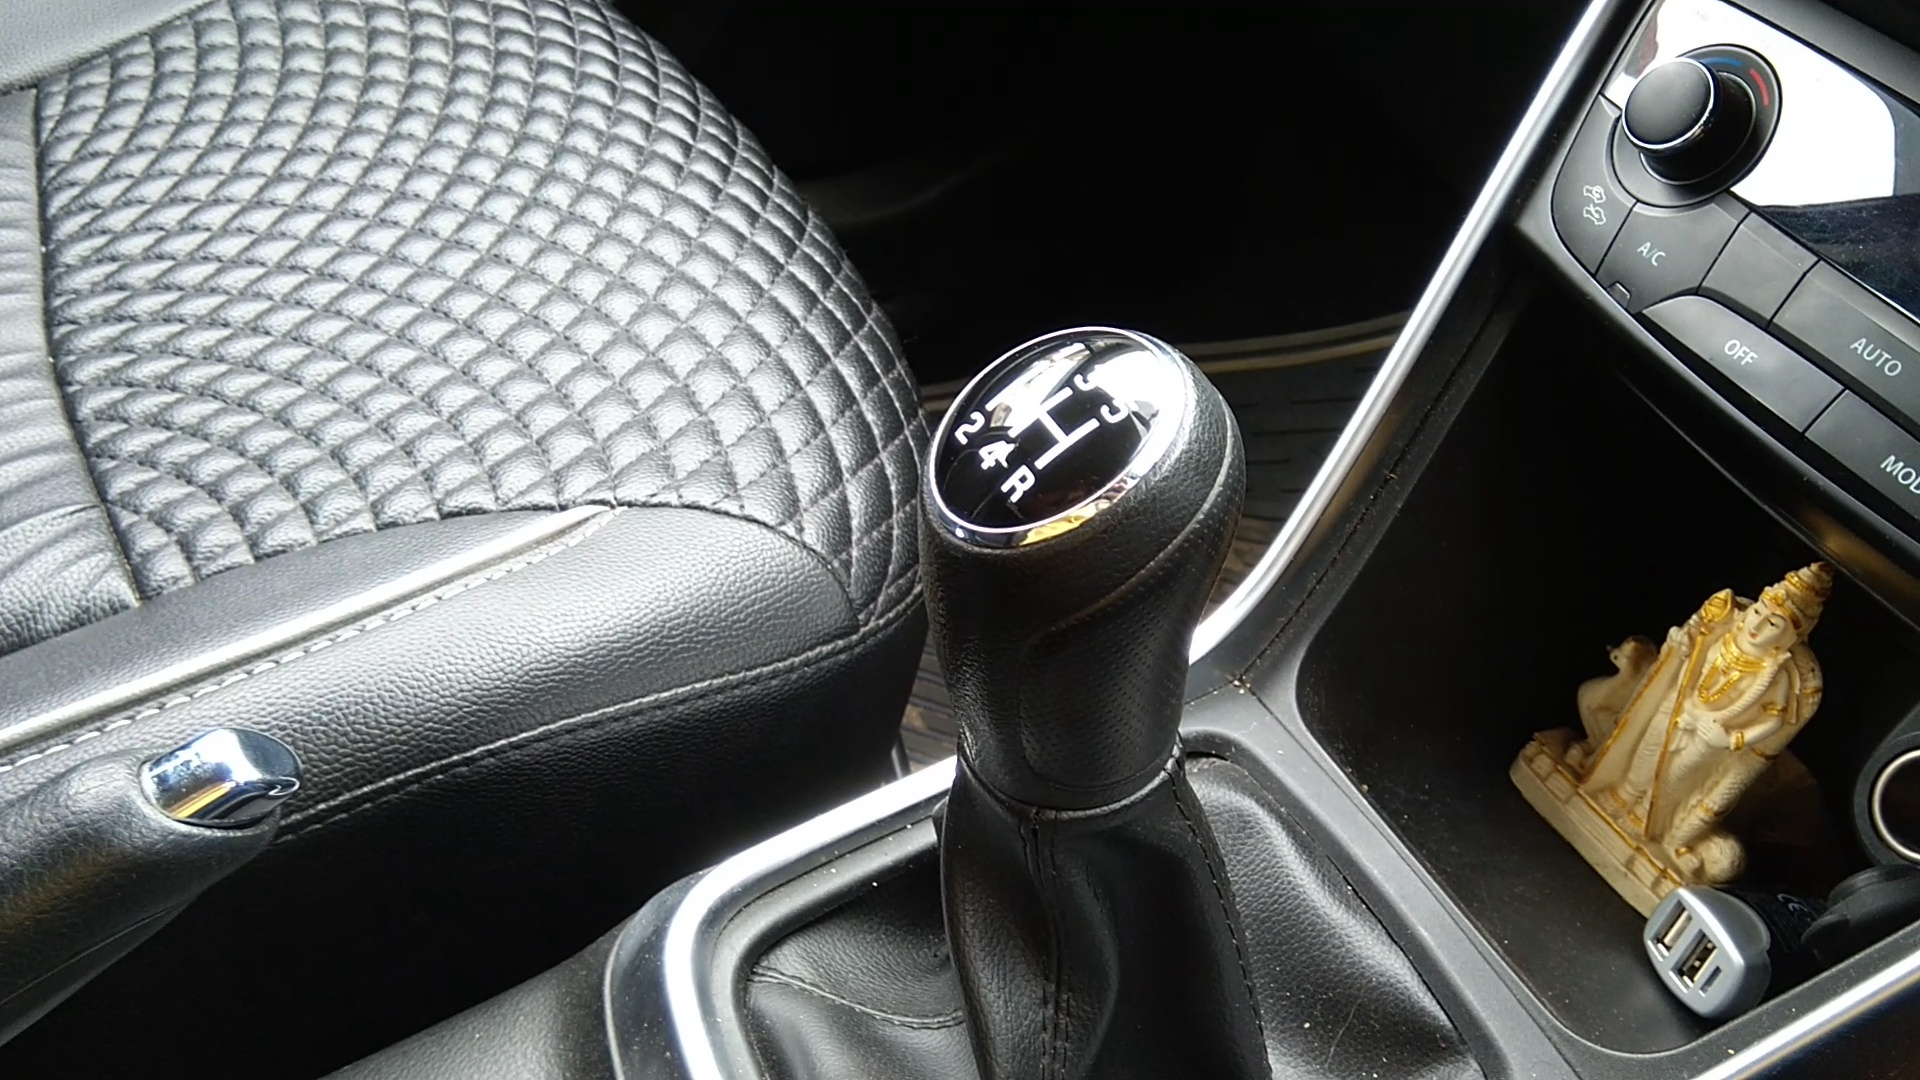manual_gear: (905, 302, 1271, 895)
